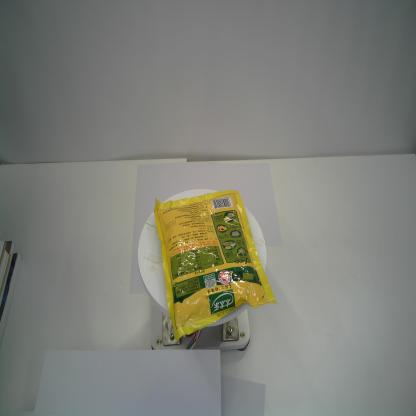Seasoner: (152, 187, 278, 345)
